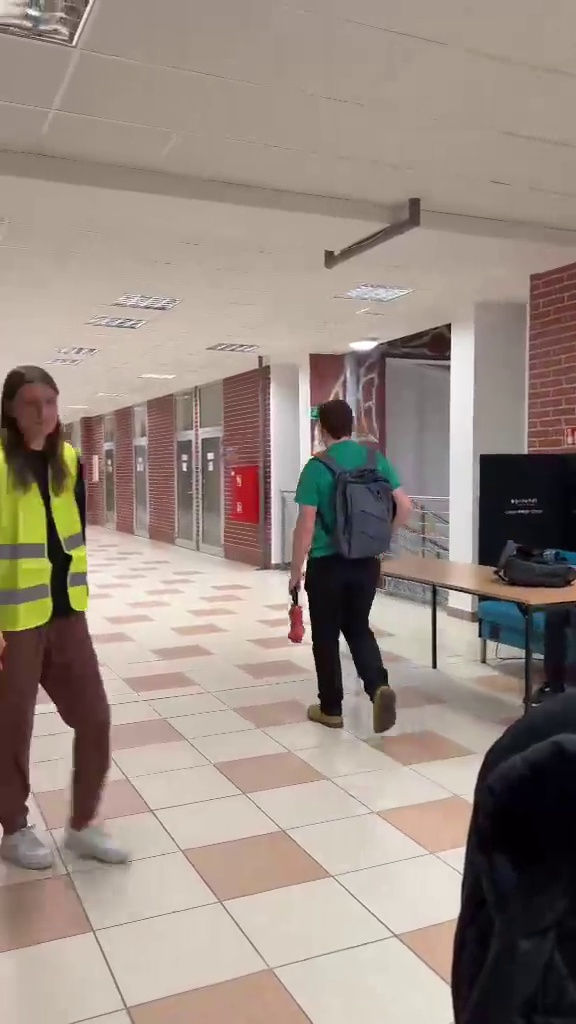no vest: (285, 395, 407, 737)
vest: (3, 358, 133, 886)
